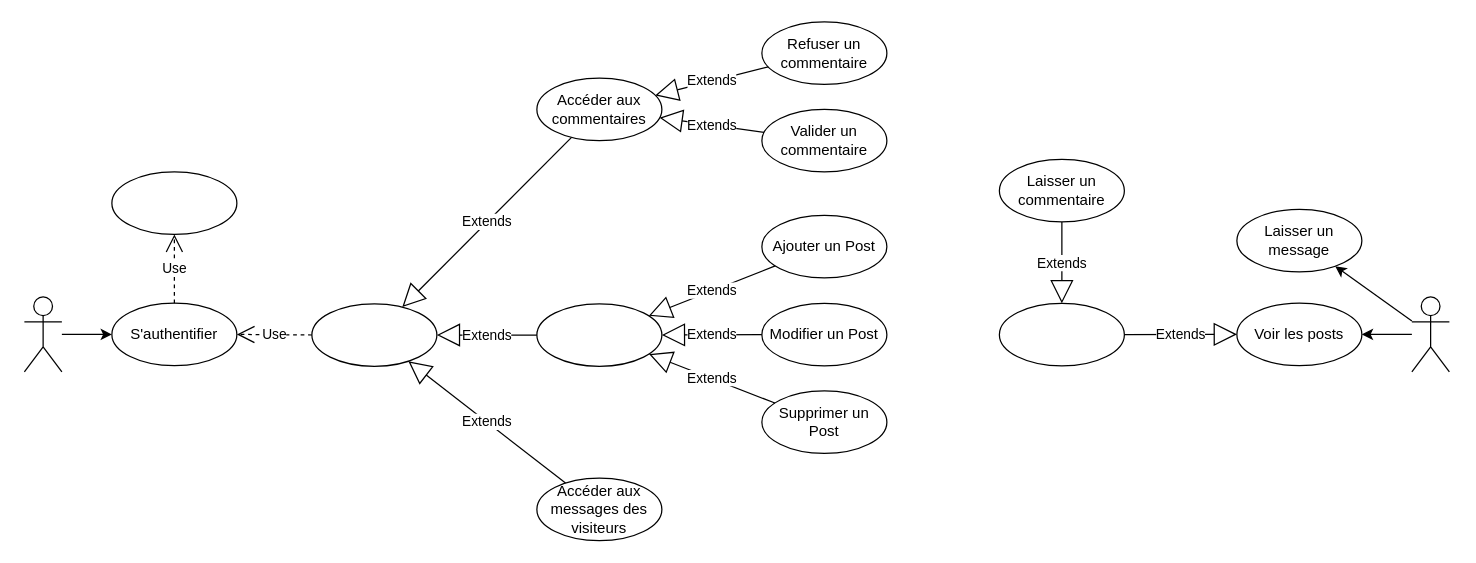
This 1476x563 diagram has some shape labels left out. Each missing label, with the centre of its shape:
"Accéder au dashboard" goes at (374,334).
"Accéder aux posts" goes at (599,334).
"Admin" goes at (42,334).
"S'inscrire" goes at (174,202).
"Visiteur" goes at (1430,334).
"Voir un Post" goes at (1061,334).
